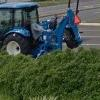Tractor: (6, 2, 83, 64)
